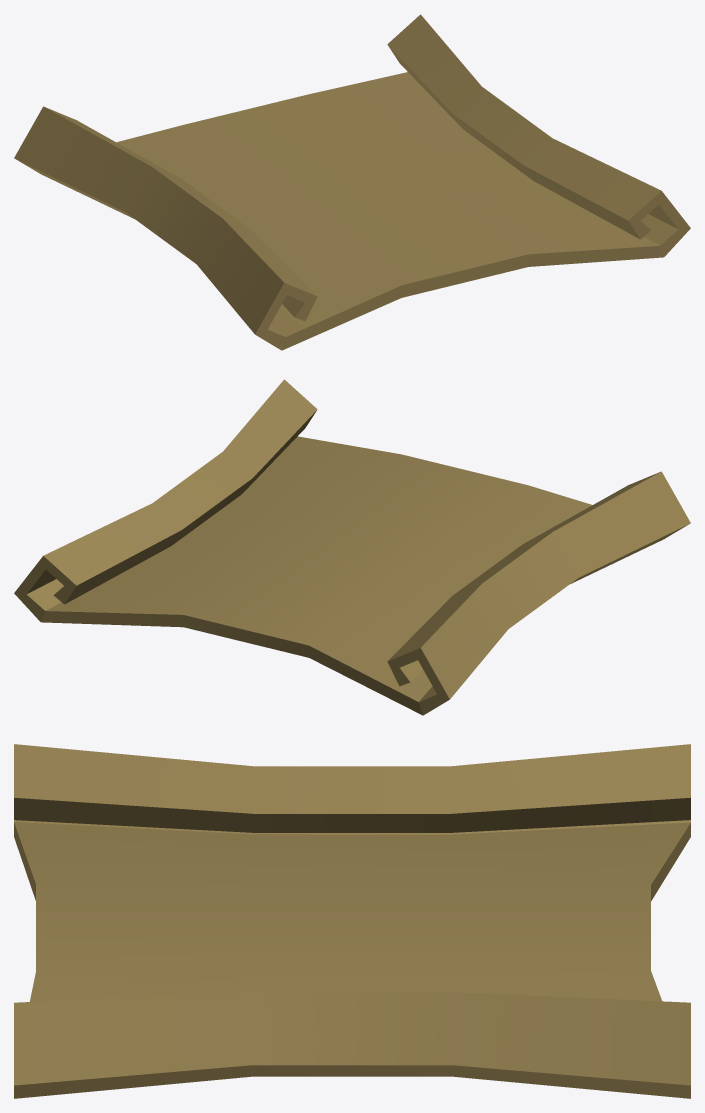
Rendered from Scroll1.fbx.
3 renders of one model, top to bottom at view 1: azimuth 30°, elevation 25°; view 2: azimuth 150°, elevation 25°; view 3: azimuth 270°, elevation 25°, orthographic. The views are drawn at different scales.
Parts seen in each view (by area): view 1: Scroll1; view 2: Scroll1; view 3: Scroll1.
Part boxes in pixels (x1,y1,x2,y2): Scroll1: (14,14,690,350); Scroll1: (14,379,690,715); Scroll1: (14,744,690,1098).
Bounding box in the file's own units: 0.5662 × 0.5423 × 0.0835.
